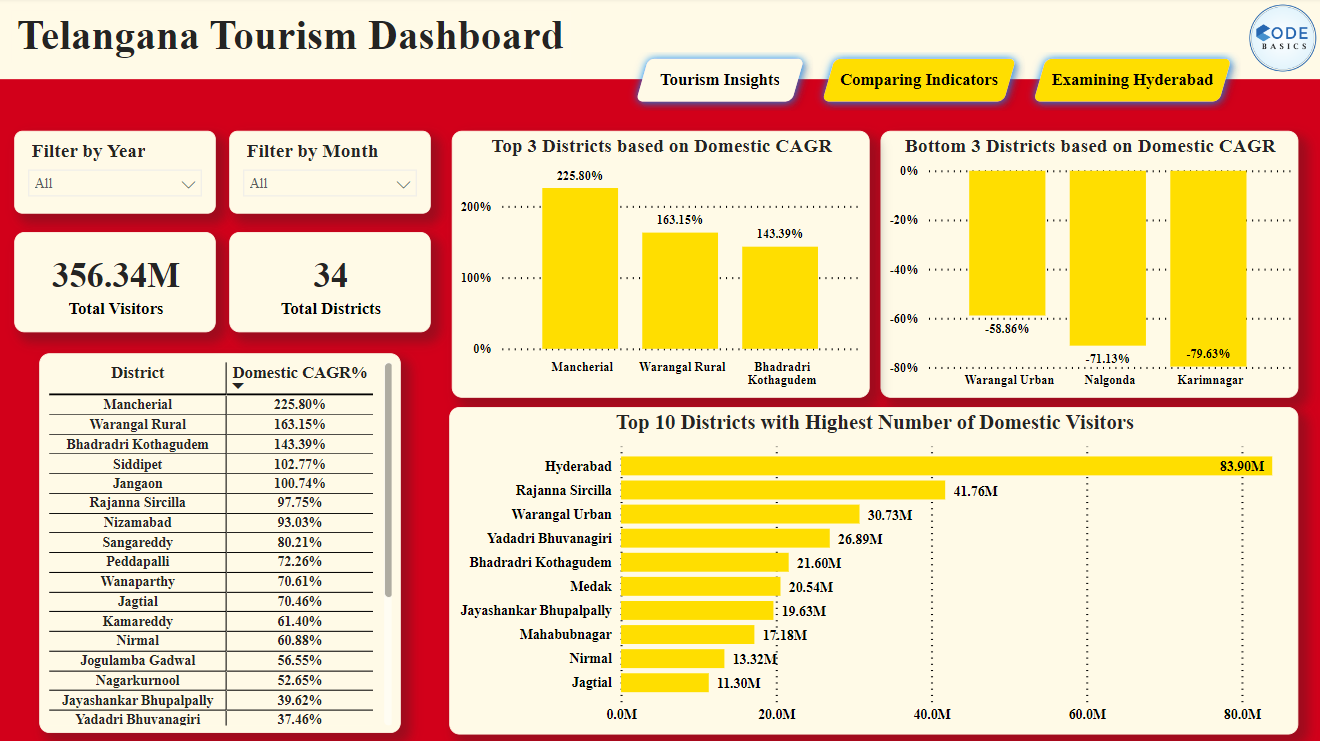

This screenshot's page, from the dashboard's own definition file:
{"tool":"powerbi","page":{"name":"Tourism Insights","canvas":[1280,720],"ordinal":0},"visuals":[{"type":"columnChart","title":"Bottom 3 Districts based on Domestic CAGR","fields":{"Category":["Final Data.district"],"Y":["Key Measures.Domestic CAGR"]},"box":[851.5,129.4,403.5,257.4],"z":0},{"type":"columnChart","title":"Top 3 Districts based on Domestic CAGR","fields":{"Category":["Final Data.district"],"Y":["Key Measures.Domestic CAGR"]},"box":[438.3,129.4,403.5,257.4],"z":1000},{"type":"shape","box":[0,0,1280,79.6],"z":2000},{"type":"slicer","fields":{"Values":["Final Data.year"]},"box":[15.7,129,194.3,80],"z":2000},{"type":"image","box":[1200,0,79.6,79.6],"z":3000},{"type":"slicer","fields":{"Values":["Final Data.month"]},"box":[223.4,129,194.3,80],"z":3000},{"type":"barChart","title":"Top 10 Districts with Highest Number of Domestic Visitors","fields":{"Category":["Final Data.district"],"Y":["Sum(Final Data.domestic_visitors)"]},"box":[435.5,395.1,819.5,315.8],"z":4000},{"type":"tableEx","fields":{"Values":["Final Data.district","Key Measures.Domestic CAGR"]},"box":[39.6,343.7,348.8,366.7],"z":5000},{"type":"card","fields":{"Values":["Sum(Final Data.domestic_visitors)"]},"box":[15.7,226.7,194.2,96.5],"z":6000},{"type":"card","fields":{"Values":["Key Measures.Total Districts"]},"box":[223.1,226.7,194.2,96.5],"z":7000},{"type":"actionButton","box":[606.5,50.8,179.8,59],"z":9000},{"type":"actionButton","box":[786.3,50.8,204.5,59],"z":10000},{"type":"actionButton","box":[990.7,50.8,208.6,59],"z":11000},{"type":"textbox","title":"Telangana Tourism Dashboard","box":[13.7,13.7,539.3,50.8],"z":13000}]}

Visuals, with their boxes in screenshot pixels (x1, y1, x2, y2), scaled from the page's 1280x720 canvas onto the 1320x741 screenshot:
"Bottom 3 Districts based on Domestic CAGR" columnChart: 878:133:1294:398
"Top 3 Districts based on Domestic CAGR" columnChart: 452:133:868:398
shape: 0:0:1319:82
slicer - Final Data.year: 16:133:217:215
image: 1238:0:1319:82
slicer - Final Data.month: 230:133:431:215
"Top 10 Districts with Highest Number of Domestic Visitors" barChart: 449:407:1294:732
tableEx - Final Data.district x Key Measures.Domestic CAGR: 41:354:401:731
card - Sum(Final Data.domestic_visitors): 16:233:216:333
card - Key Measures.Total Districts: 230:233:430:333
actionButton: 625:52:811:113
actionButton: 811:52:1022:113
actionButton: 1022:52:1237:113
"Telangana Tourism Dashboard" textbox: 14:14:570:66
